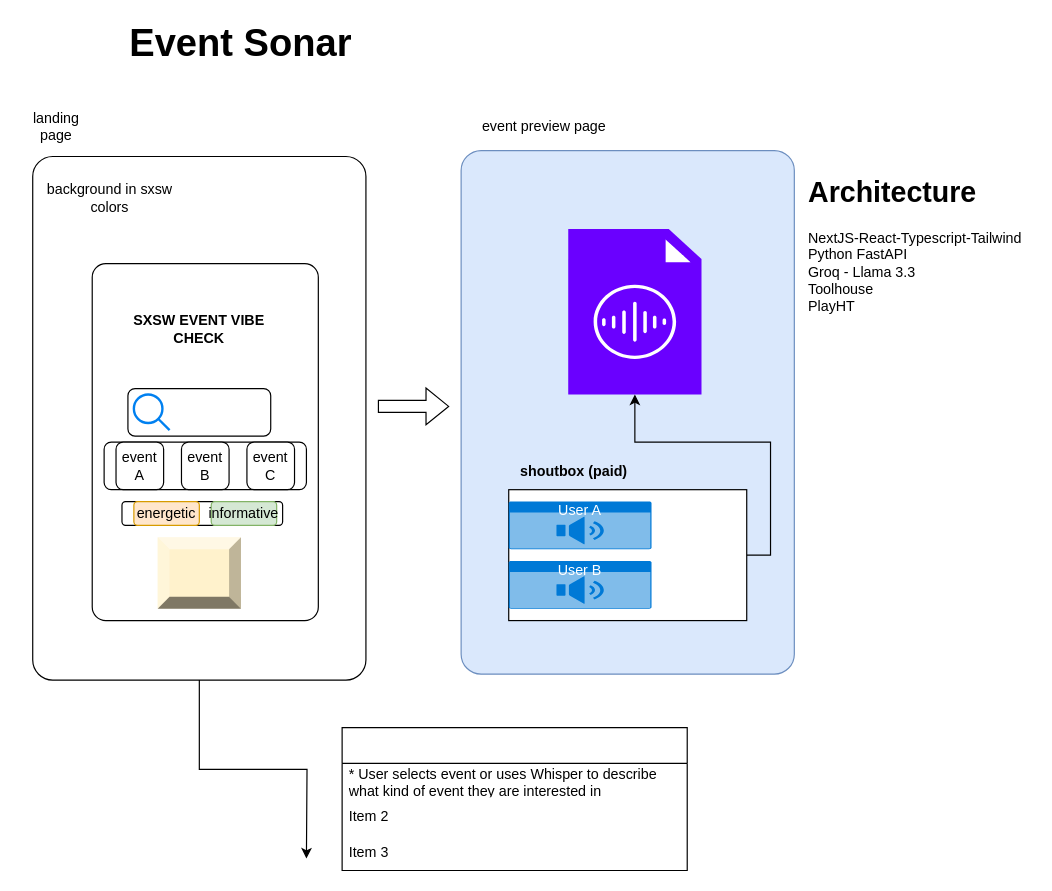
The diagram is 1052 pixels wide and 891 high, and some of its shapes have lost their labels. The box of each missing label's shape, as (x1, y1, x2, y2) in pixels:
context specific narrator (15s story describing the event): (567, 228, 702, 394)
flow: (341, 726, 687, 870)
MIC (whisper): (156, 536, 241, 609)
